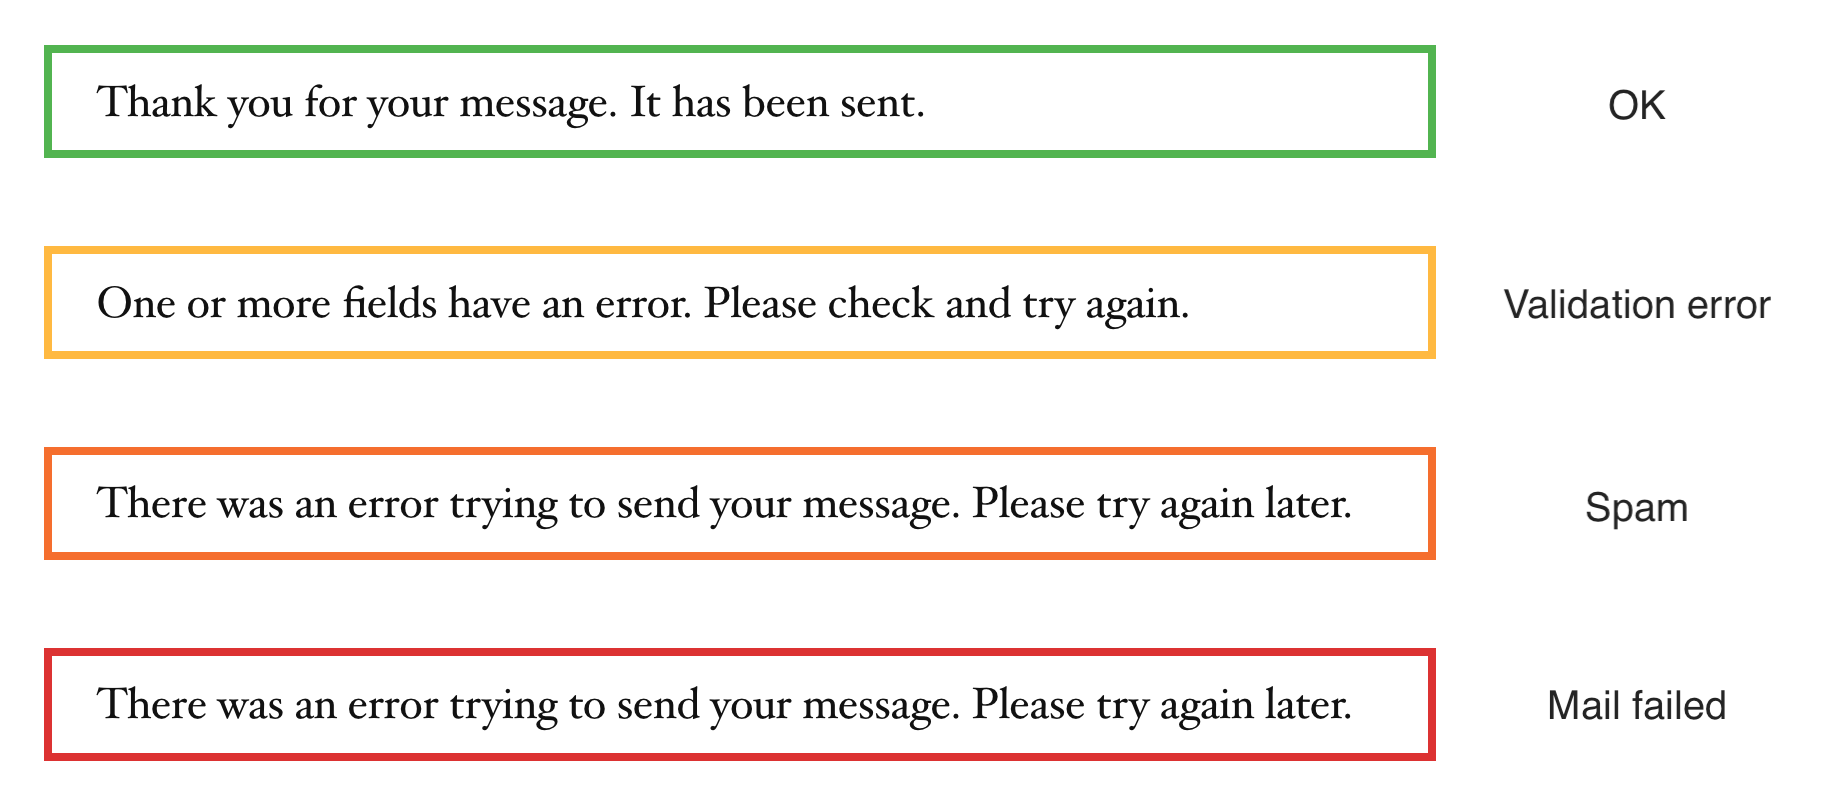error_field: (42, 647, 1439, 764)
